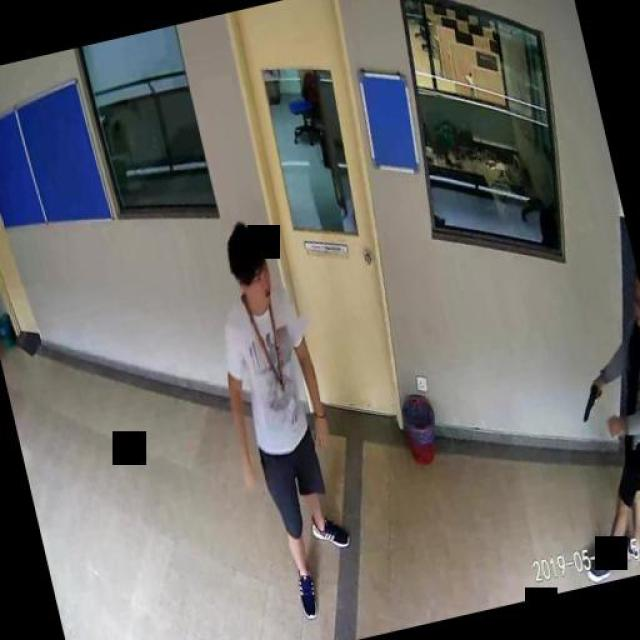gun: (574, 379, 605, 421)
